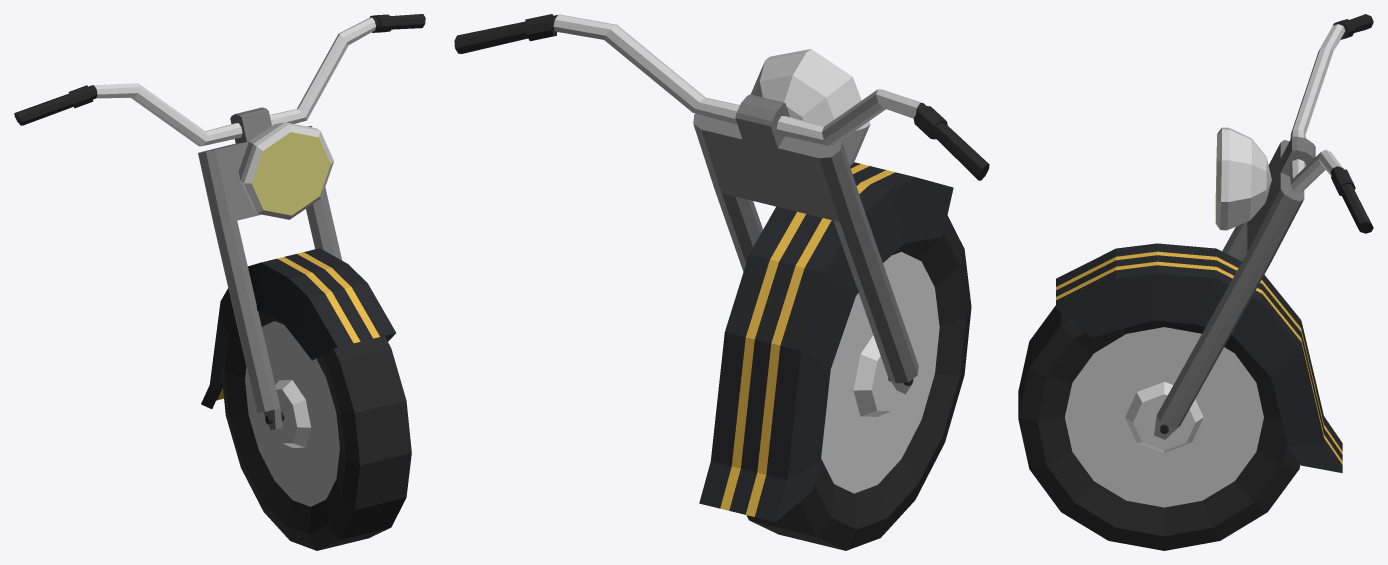
Rendered from Motorcycle_01_Stearing_Wheel.fbx.
3 views of the same model, side by side, from view 1: azimuth 30°, elevation 25°; view 2: azimuth 150°, elevation 25°; view 3: azimuth 270°, elevation 25° (orthographic). The views are drawn at different scales.
Parts seen in each view (by area): view 1: Motorcycle_01_Stearing_Wheel, Motorcycle_01_Wheel_01; view 2: Motorcycle_01_Stearing_Wheel, Motorcycle_01_Wheel_01; view 3: Motorcycle_01_Wheel_01, Motorcycle_01_Stearing_Wheel.
Boxes of the visible parts, x1=… form: Motorcycle_01_Stearing_Wheel: x1=14, y1=14, x2=425, y2=429; Motorcycle_01_Wheel_01: x1=221, y1=310, x2=411, y2=550; Motorcycle_01_Stearing_Wheel: x1=454, y1=14, x2=989, y2=521; Motorcycle_01_Wheel_01: x1=746, y1=215, x2=971, y2=550; Motorcycle_01_Wheel_01: x1=1018, y1=305, x2=1300, y2=550; Motorcycle_01_Stearing_Wheel: x1=1056, y1=14, x2=1373, y2=473.
Bounding box in the file's own units: 156 × 154 × 112.
